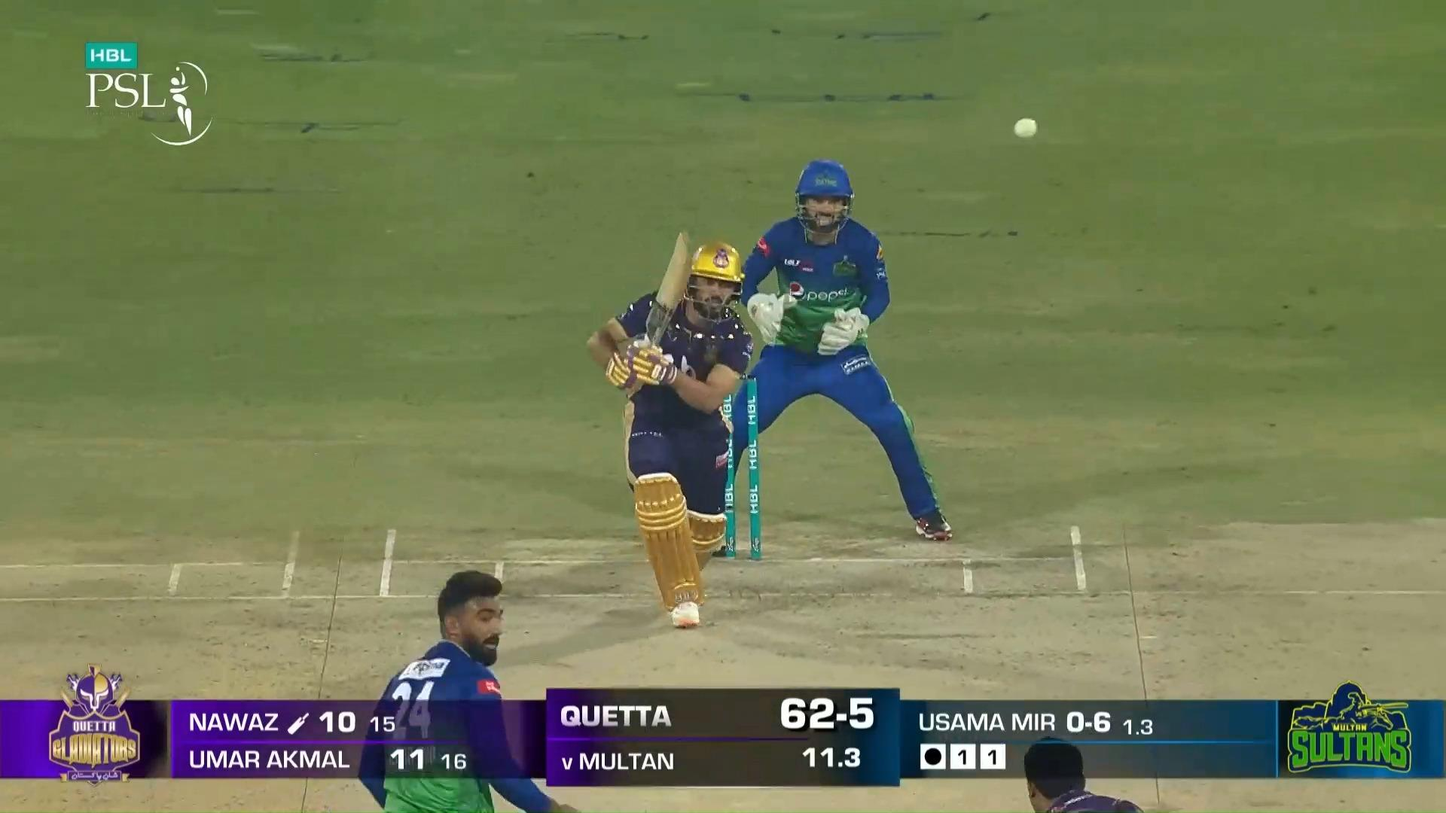batsman: (589, 229, 755, 628)
